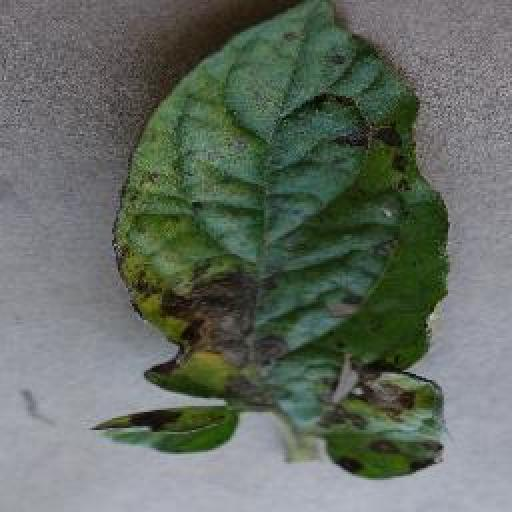Early Blight: (112, 0, 451, 483)
